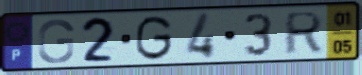2: (79, 15, 119, 66)
3: (242, 12, 274, 58)
4: (184, 10, 219, 63)
G: (133, 14, 175, 63), (36, 17, 77, 65)
R: (281, 9, 326, 57)
